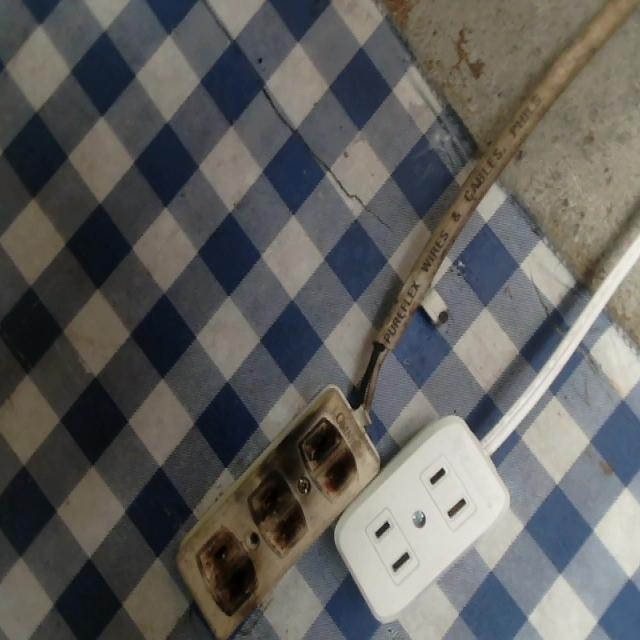-: (195, 521, 259, 615), (298, 415, 362, 501), (244, 468, 308, 551)
